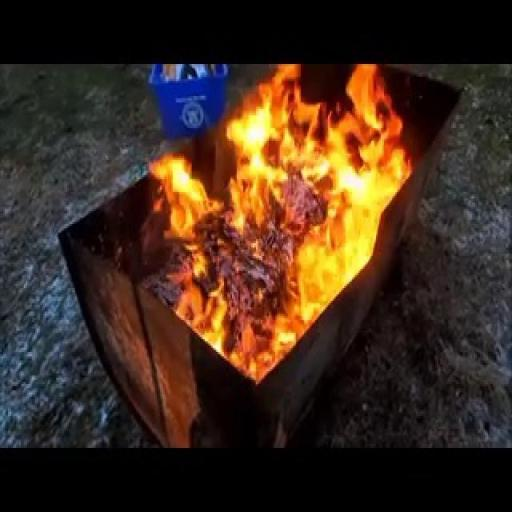smoke: (144, 66, 410, 388)
